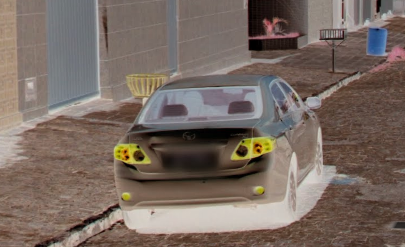car: (110, 73, 327, 223)
